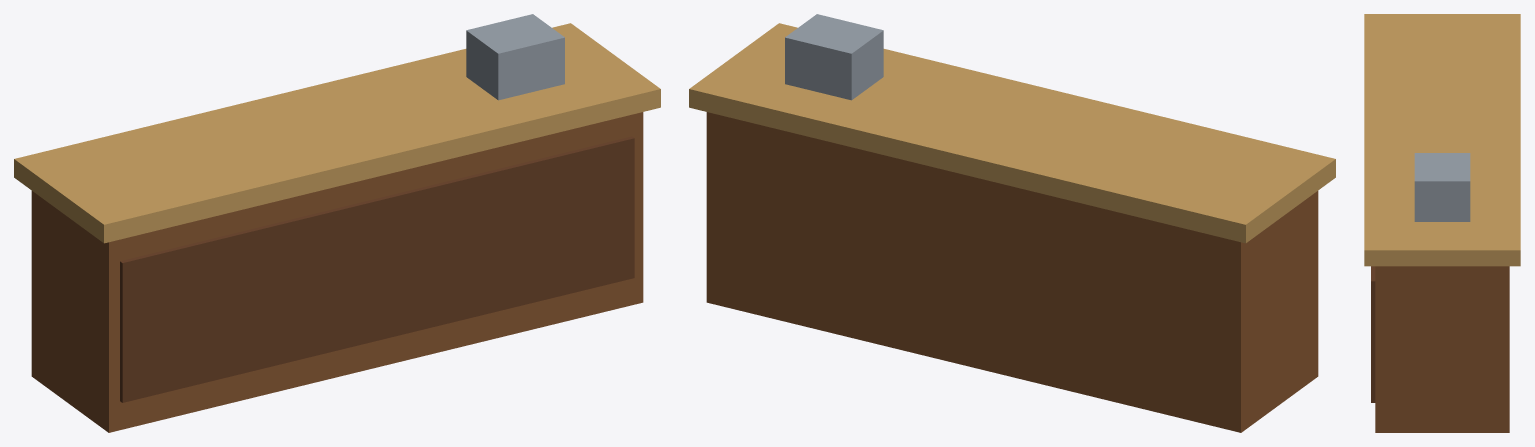
The model's file is f_counter.glb.
3 renders of one model, left to right at view 1: azimuth 30°, elevation 25°; view 2: azimuth 150°, elevation 25°; view 3: azimuth 270°, elevation 25°, orthographic. The views are drawn at different scales.
Parts seen in each view (by area): view 1: counter; view 2: counter; view 3: counter.
Part boxes in pixels (box(x1,y1,x2,y2)): counter: box(14, 14, 660, 432); counter: box(689, 14, 1335, 432); counter: box(1364, 14, 1520, 432).
Bounding box in the file's own units: 2.5 × 1.13 × 0.7.
